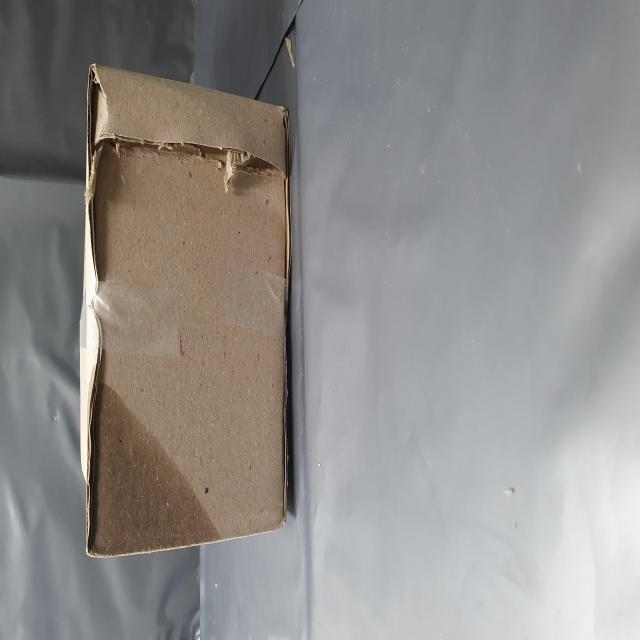wet: (49, 150, 150, 392)
